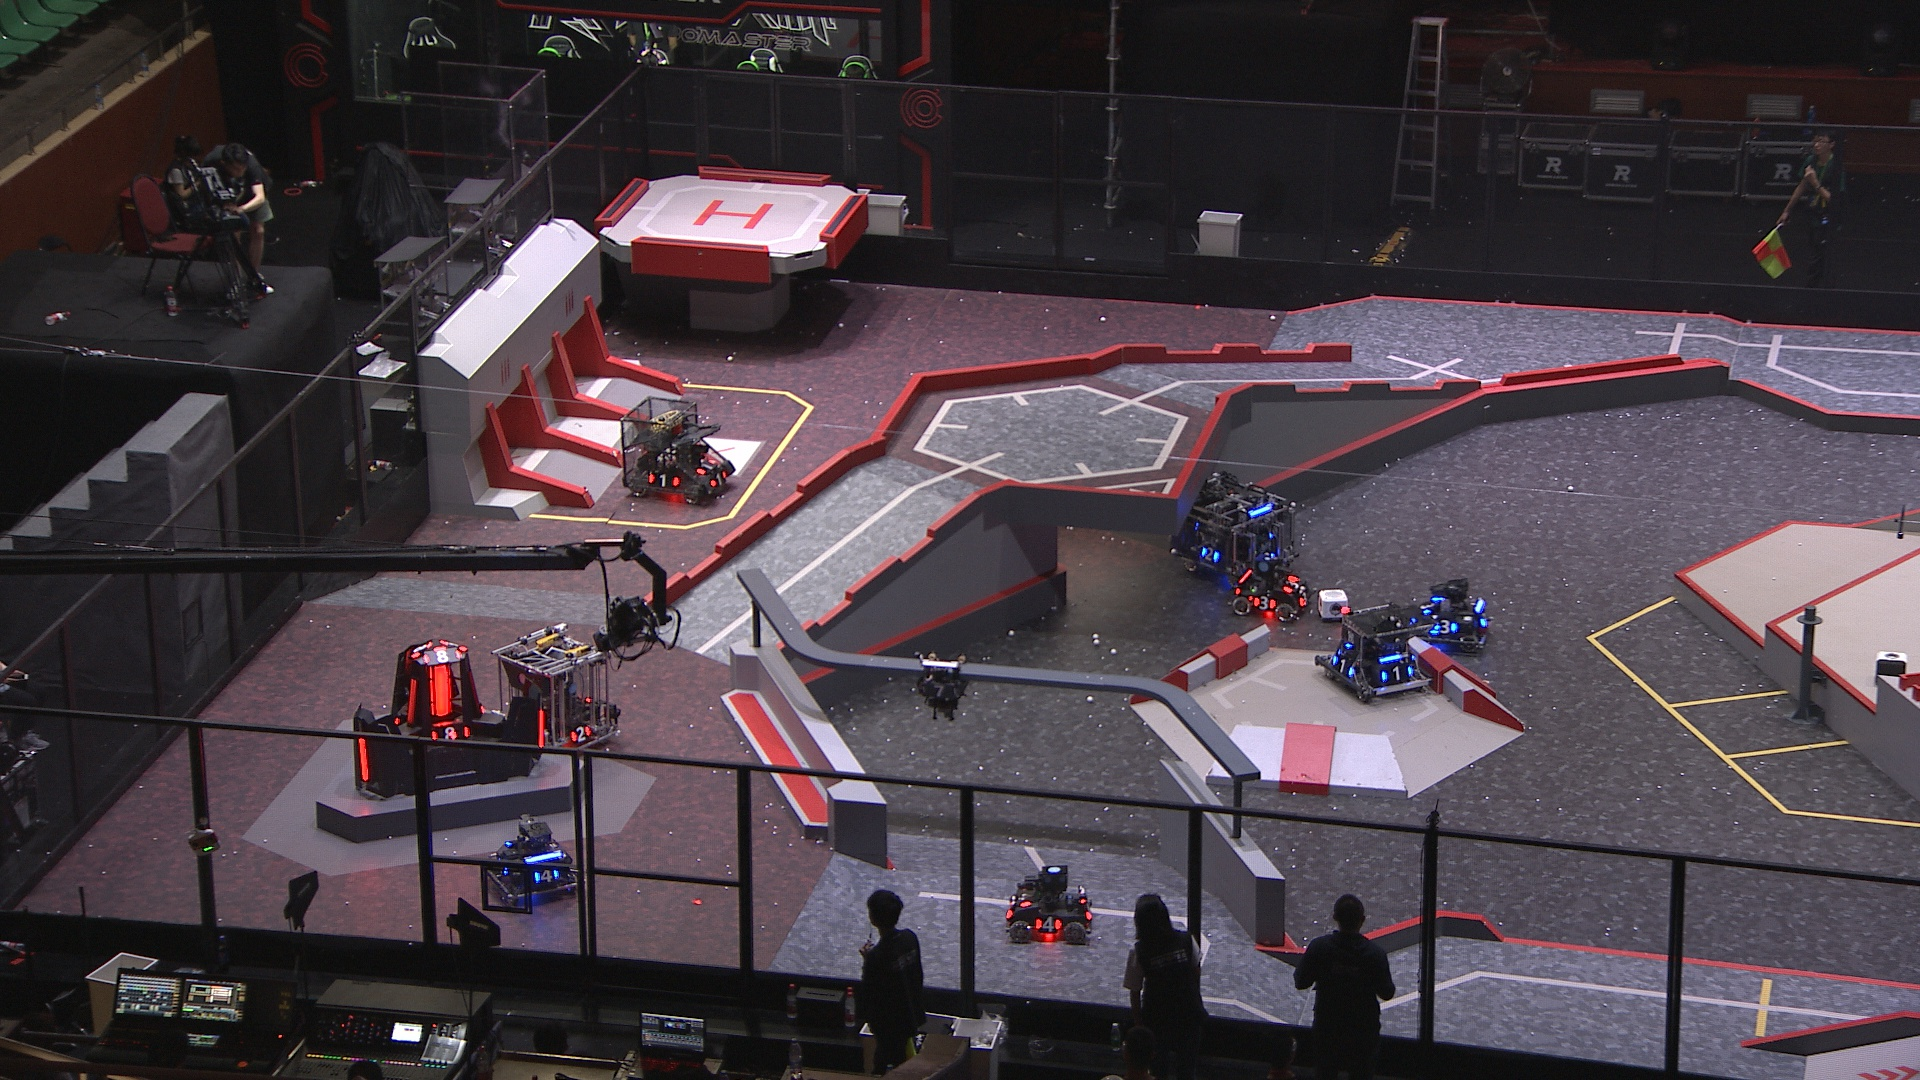armor: (429, 665, 454, 717), (429, 725, 473, 741), (404, 679, 418, 727), (1378, 665, 1415, 683), (1033, 915, 1067, 935), (357, 735, 371, 781), (647, 473, 684, 489), (422, 650, 462, 665), (1332, 655, 1356, 679), (531, 866, 560, 885), (1250, 595, 1280, 612), (1429, 618, 1460, 636), (567, 725, 591, 746), (923, 683, 957, 698), (709, 469, 731, 489), (1200, 549, 1225, 564), (409, 641, 430, 659), (1017, 889, 1035, 910), (1280, 575, 1302, 593), (538, 707, 546, 749), (1419, 603, 1437, 616), (695, 462, 712, 473), (1298, 589, 1309, 605), (1480, 612, 1490, 626)
base: (347, 640, 550, 800)
car: (489, 624, 621, 760), (1168, 475, 1299, 583), (618, 396, 737, 505), (1313, 600, 1436, 705), (477, 816, 585, 903), (1002, 860, 1096, 944), (1406, 575, 1495, 654), (1228, 555, 1311, 622)
watcher: (915, 654, 969, 723)
